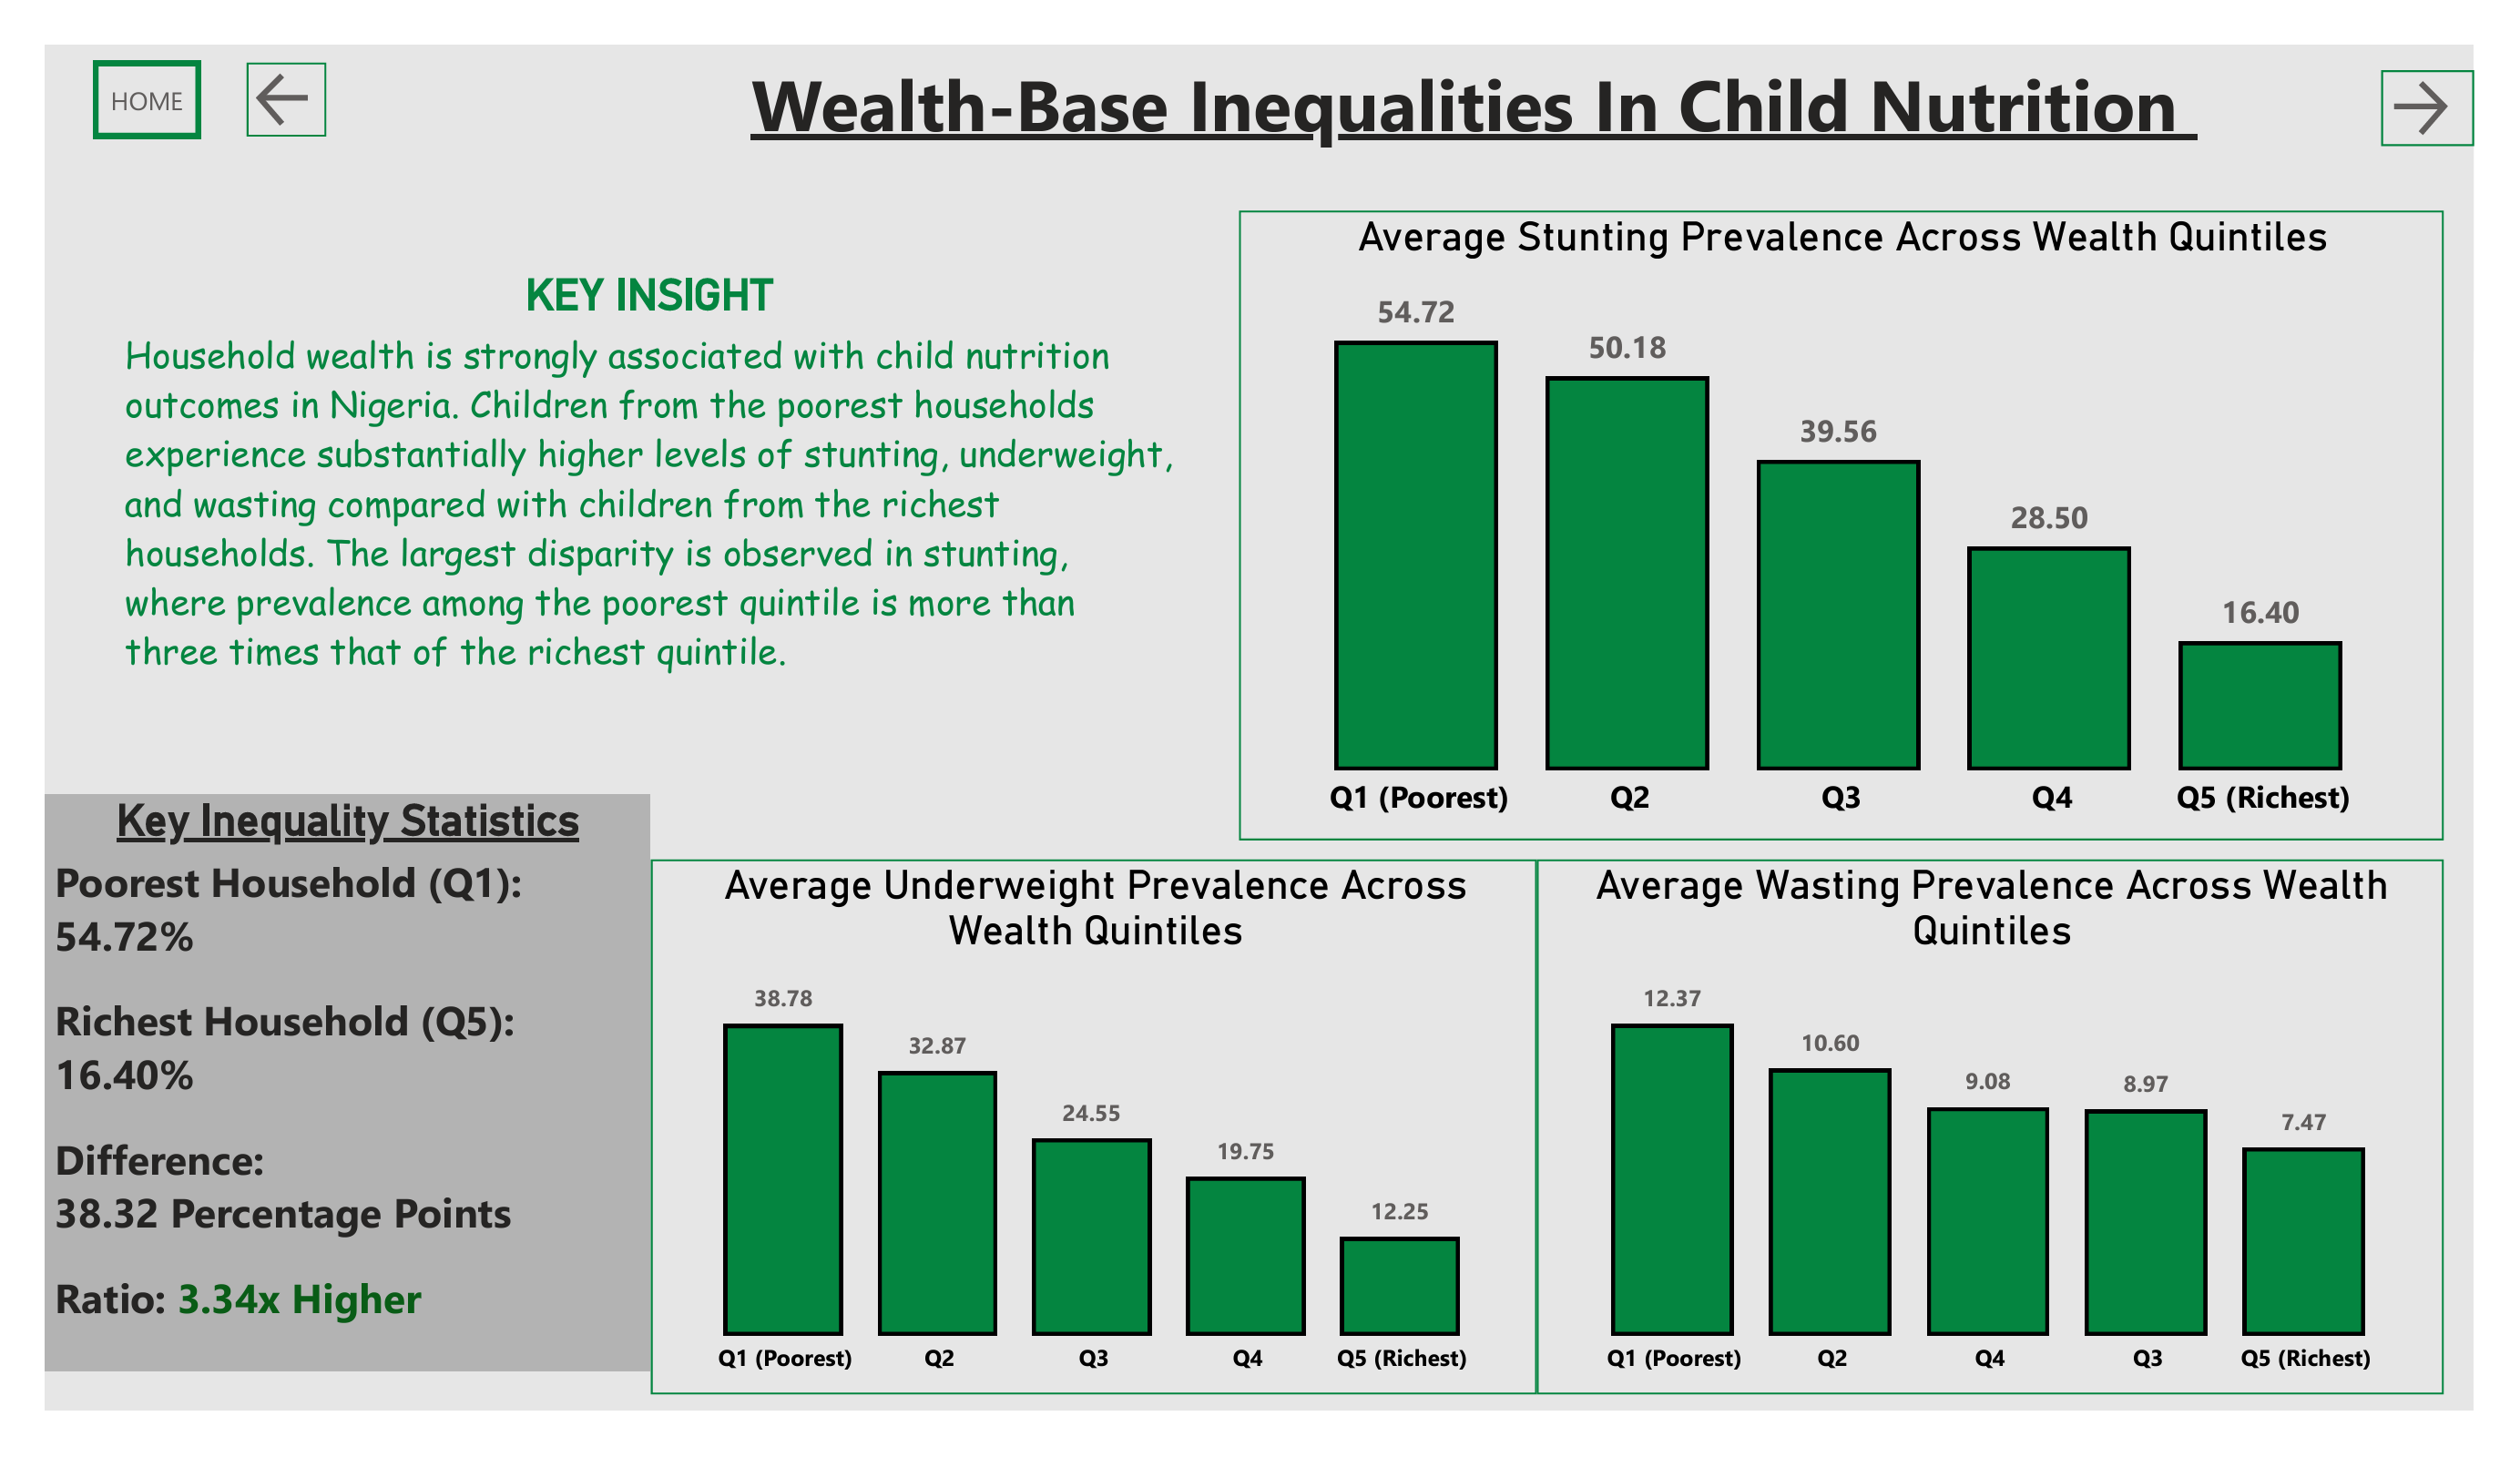

The dashboard page shown, as its layout file describes it:
{"tool":"powerbi","page":{"name":"WEALTH DISPARITY","canvas":[1280,720],"ordinal":1},"visuals":[{"type":"textbox","box":[285.1,0,936,66.1],"z":0},{"type":"clusteredColumnChart","title":"Average Stunting Prevalence Across Wealth Quintiles","fields":{"Category":["nutritional_inequality.CATEGORY"],"Y":["Measures_Table.Avg Stunting"]},"box":[628.9,86.7,634.8,332.1],"z":1000},{"type":"clusteredColumnChart","title":"Average Wasting Prevalence Across Wealth Quintiles","fields":{"Category":["nutritional_inequality.CATEGORY"],"Y":["Measures_Table.Avg Wasting"]},"box":[786.1,429.1,477.6,282.1],"z":2000},{"type":"clusteredColumnChart","title":"Average Underweight Prevalence Across Wealth Quintiles","fields":{"Category":["nutritional_inequality.CATEGORY"],"Y":["Measures_Table.Avg Underweight"]},"box":[318.9,429.1,467.3,282.1],"z":3000},{"type":"textbox","title":"Key Inequality Statistics","box":[0,395.3,318.9,304.2],"z":4000},{"type":"textbox","title":"KEY INSIGHT ","box":[36.7,117.6,562.8,263],"z":5000},{"type":"actionButton","box":[1231.3,13.2,48.5,39.7],"z":6000},{"type":"actionButton","box":[105.8,8.8,42.6,39.7],"z":7000},{"type":"actionButton","box":[25,8.3,57,40.3],"z":8000}]}

Visuals, with their boxes on the page's 1280x720 design canvas (x1, y1, x2, y2). These are canvas units, not pixel positions in the 2520x1457 screenshot, which may show the page scaled, cropped or inside an application window:
textbox: bbox=(285, 0, 1221, 66)
"Average Stunting Prevalence Across Wealth Quintiles" clusteredColumnChart: bbox=(629, 87, 1264, 419)
"Average Wasting Prevalence Across Wealth Quintiles" clusteredColumnChart: bbox=(786, 429, 1264, 711)
"Average Underweight Prevalence Across Wealth Quintiles" clusteredColumnChart: bbox=(319, 429, 786, 711)
"Key Inequality Statistics" textbox: bbox=(0, 395, 319, 700)
"KEY INSIGHT " textbox: bbox=(37, 118, 600, 381)
actionButton: bbox=(1231, 13, 1280, 53)
actionButton: bbox=(106, 9, 148, 48)
actionButton: bbox=(25, 8, 82, 49)
